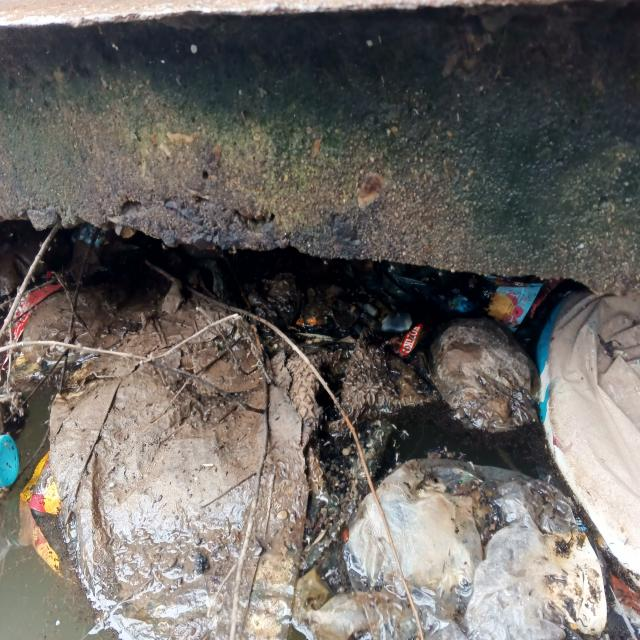Breeding Place: (0, 221, 640, 640)
